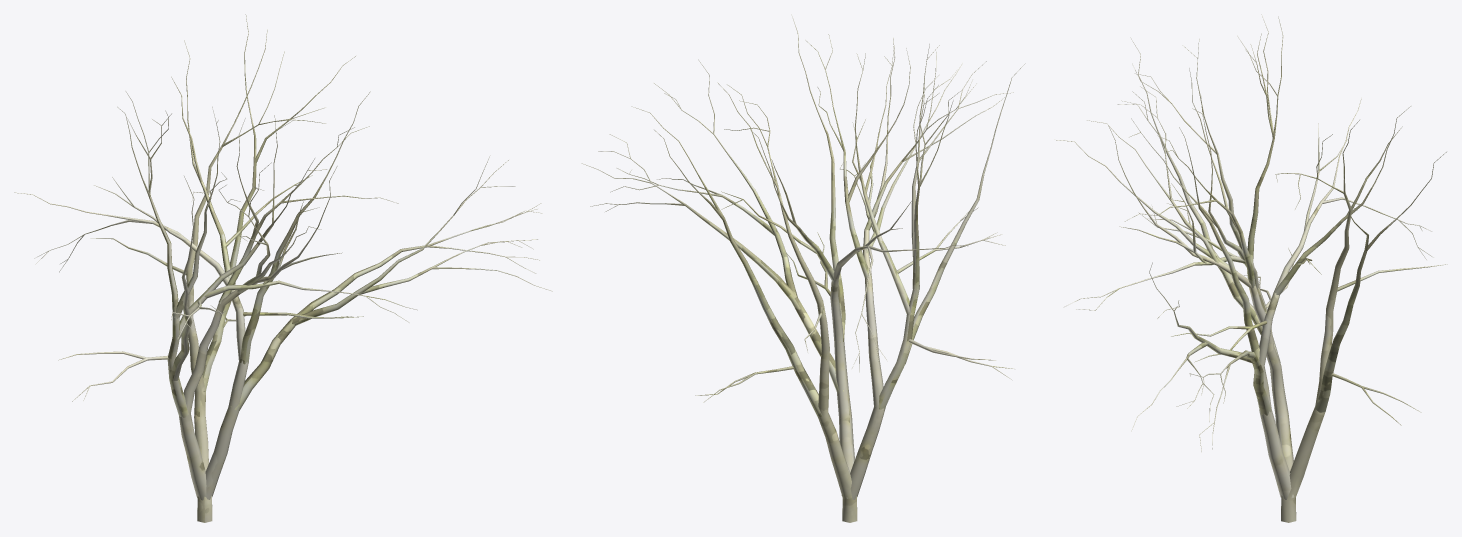
File: SM_SukuraC_Bark.fbx
3 views of the same model, side by side, from view 1: azimuth 30°, elevation 25°; view 2: azimuth 150°, elevation 25°; view 3: azimuth 270°, elevation 25° (orthographic). The views are drawn at different scales.
Parts seen in each view (by area): view 1: SM_SukuraC_Bark; view 2: SM_SukuraC_Bark; view 3: SM_SukuraC_Bark.
Part boxes in pixels (left/top/right/bottom): SM_SukuraC_Bark: left=14, top=14, right=552, bottom=522; SM_SukuraC_Bark: left=581, top=14, right=1025, bottom=522; SM_SukuraC_Bark: left=1054, top=14, right=1447, bottom=522.
Bounding box in the file's own units: 9.32 × 8.86 × 6.83.
